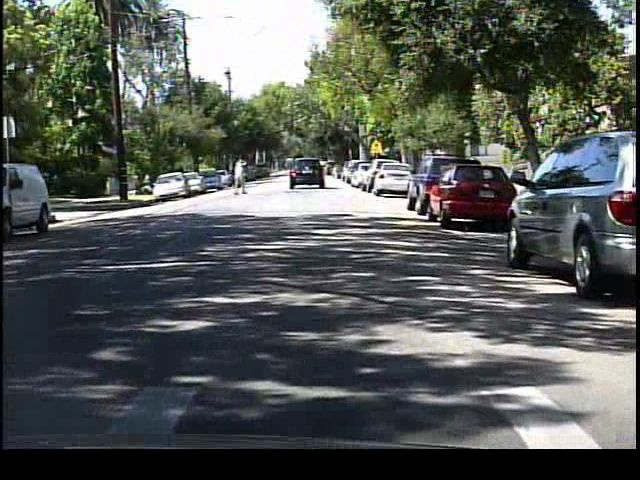person: (229, 154, 252, 198)
